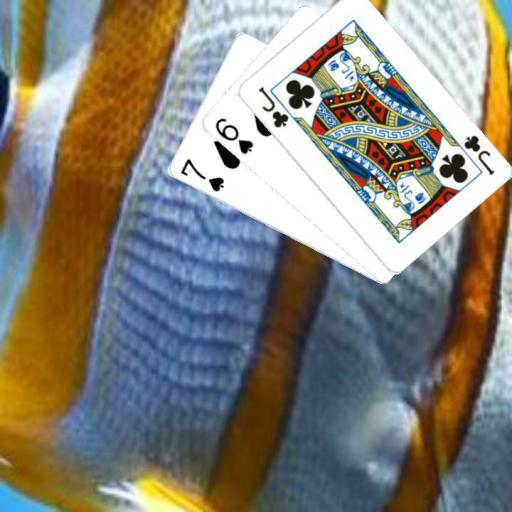6S: (211, 115, 255, 156)
7S: (177, 156, 226, 193)
JC: (459, 132, 496, 177), (255, 84, 290, 130)
